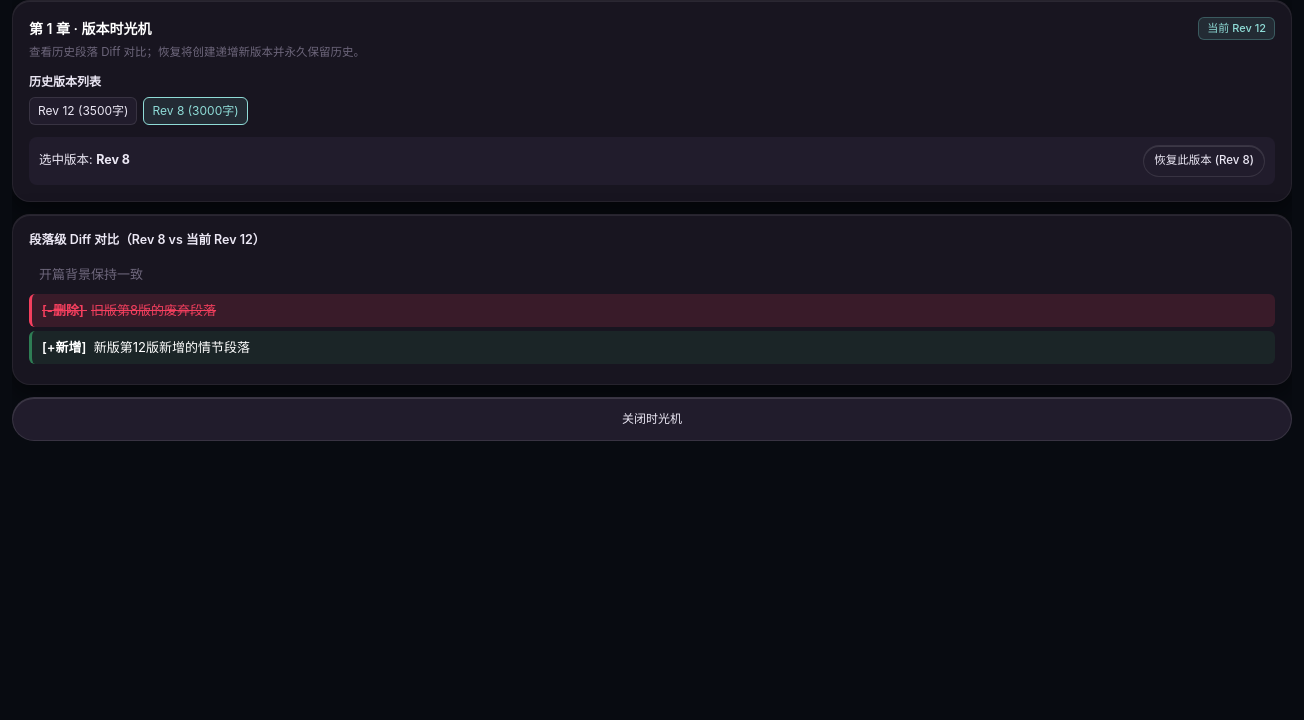
闭环 3 · 版本时光机前端呈现与 Diff 对比 (VersionHistoryDrawer) › 有真实历史时：移除尚未接入提示，展示版本列表、段落级 Diff 对比与恢复操作
Expected: the text "第 1 章 · 版本时光机" is shown, [29,18,152,39]
Expected: the button with test id "history-chip-r12" is shown, [29,97,138,125]
Click the button with test id "restore-version-btn" at (1204, 161), box [1143,145,1265,177]
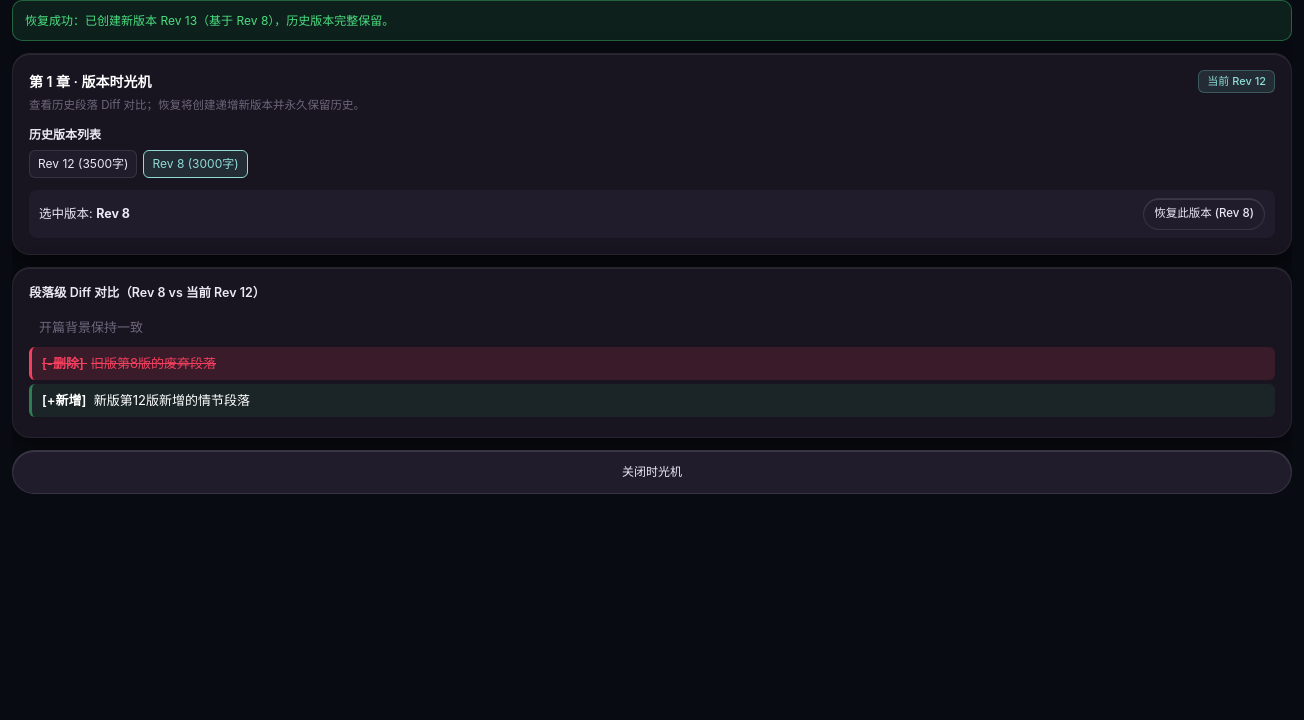
Expected: the text "恢复成功：已创建新版本 Rev 13（基于 Rev 8），历史版本完整保留。" is shown, [12,0,1292,41]
